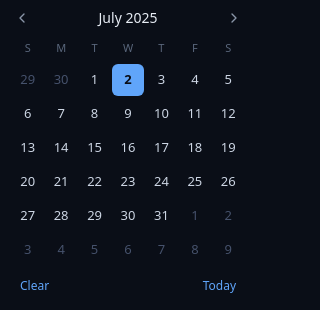
Calendar › navigates to the next and previous month
This screenshot has width=320, height=310.
Click the button named "next month".
click(234, 18)  # box [224,8,244,28]
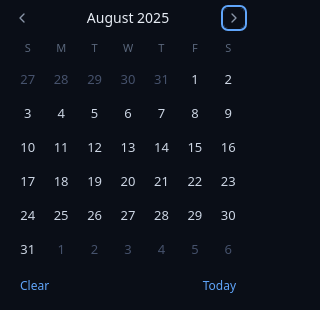
Expected: the text "August 2025" is shown, [87,8,169,28]
Click the button named "previous month".
click(22, 18)  # box [12,8,32,28]
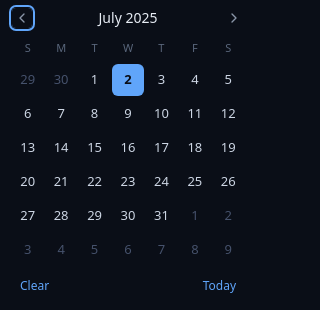
Click the button named "previous month".
click(22, 18)  # box [12,8,32,28]
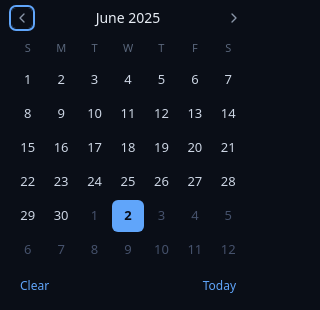
Expected: the text "June 2025" is shown, [96,8,160,28]
